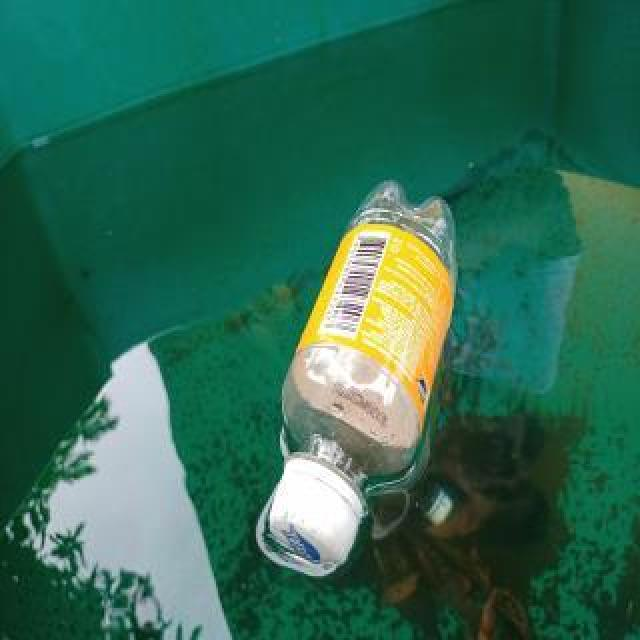bottle: (263, 176, 461, 568)
